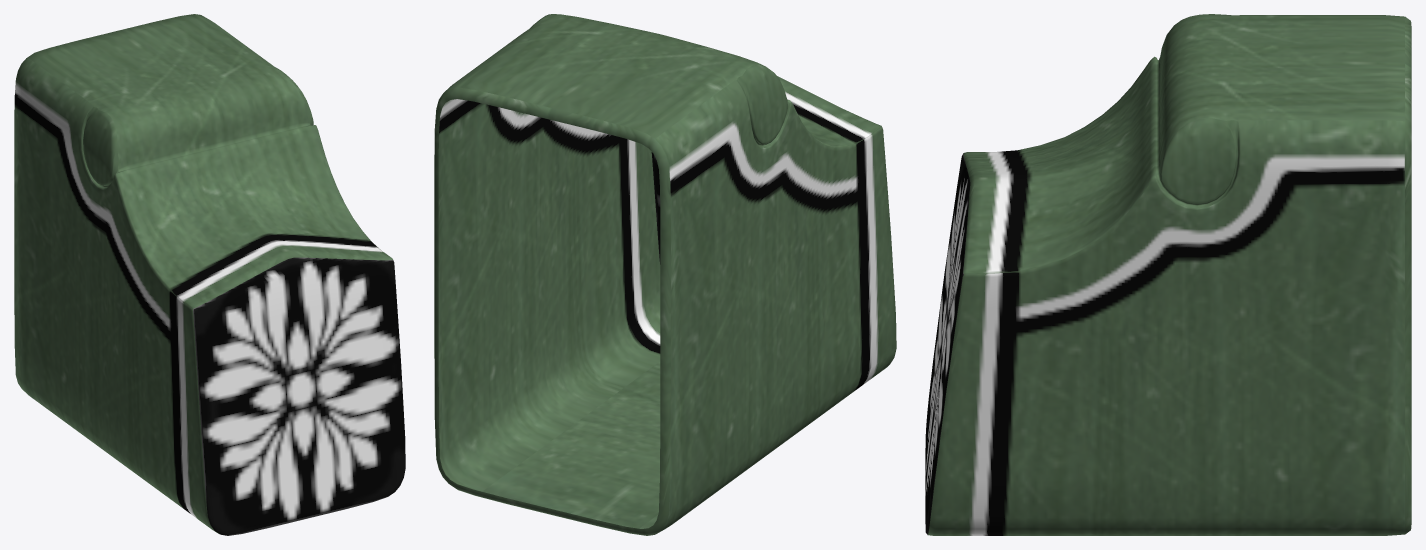
Rendered from SM_Beam03E.fbx.
3 views of the same model, side by side, from view 1: azimuth 30°, elevation 25°; view 2: azimuth 150°, elevation 25°; view 3: azimuth 270°, elevation 25° (orthographic). The views are drawn at different scales.
Parts seen in each view (by area): view 1: SM_Beam03E; view 2: SM_Beam03E; view 3: SM_Beam03E.
Part boxes in pixels (x1=…): SM_Beam03E: x1=14, y1=14, x2=405, y2=535; SM_Beam03E: x1=434, y1=14, x2=896, y2=535; SM_Beam03E: x1=925, y1=14, x2=1411, y2=535.
Bounding box in the file's own units: 22.93 × 38.72 × 37.6.
1 material, 1 textured.
